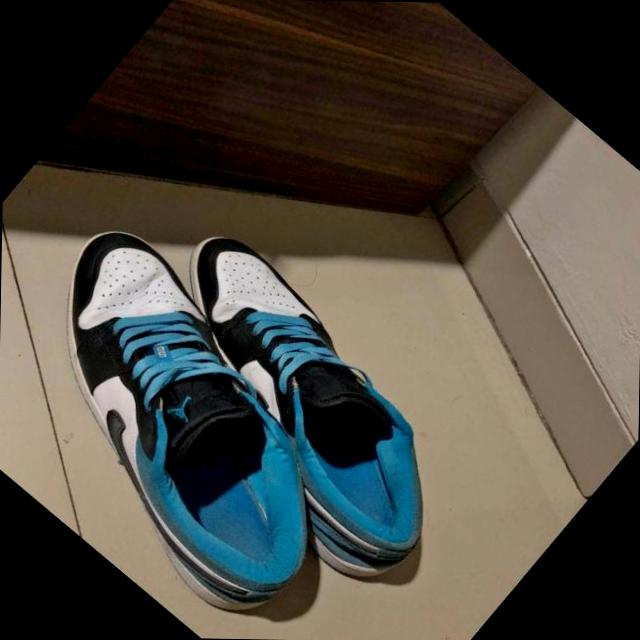nike_fake_jordan: (0, 209, 407, 640), (81, 214, 502, 612)
